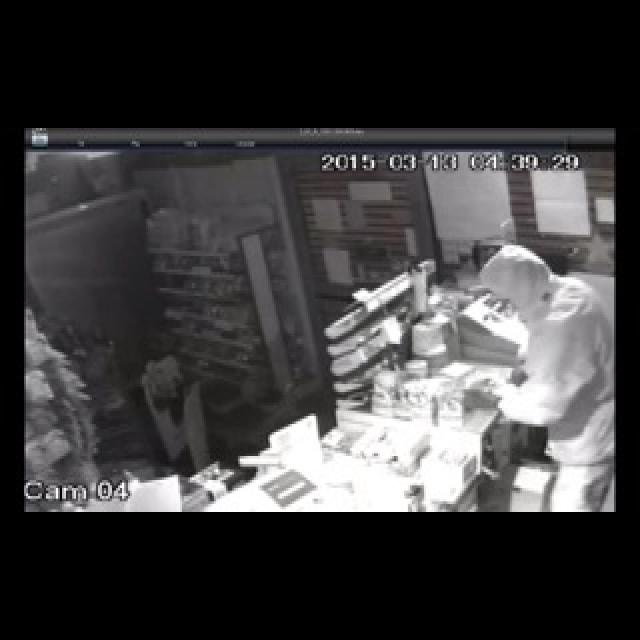thief: (478, 247, 613, 513)
